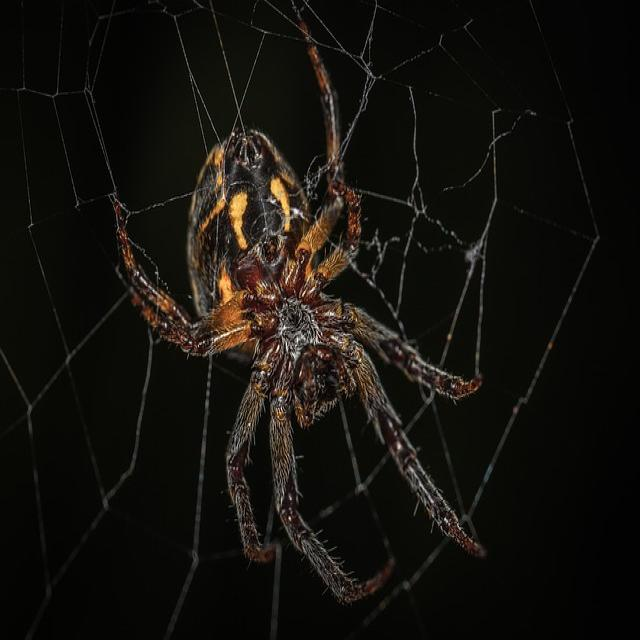spyder: (115, 22, 481, 602)
